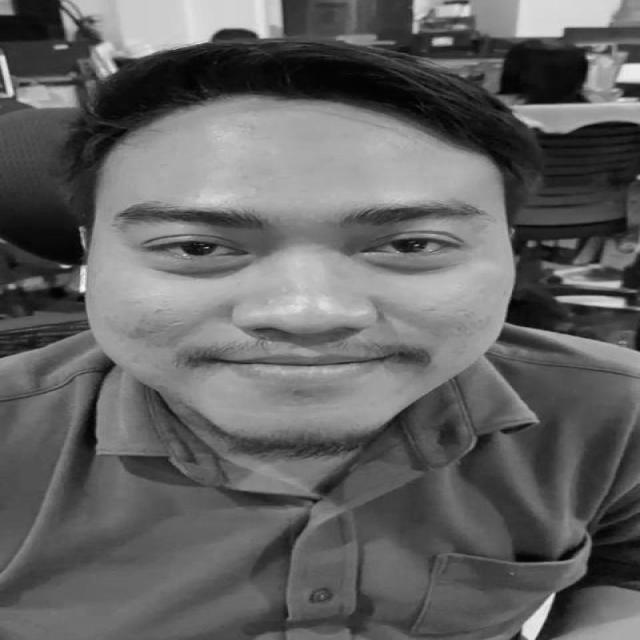real: (79, 140, 511, 440)
